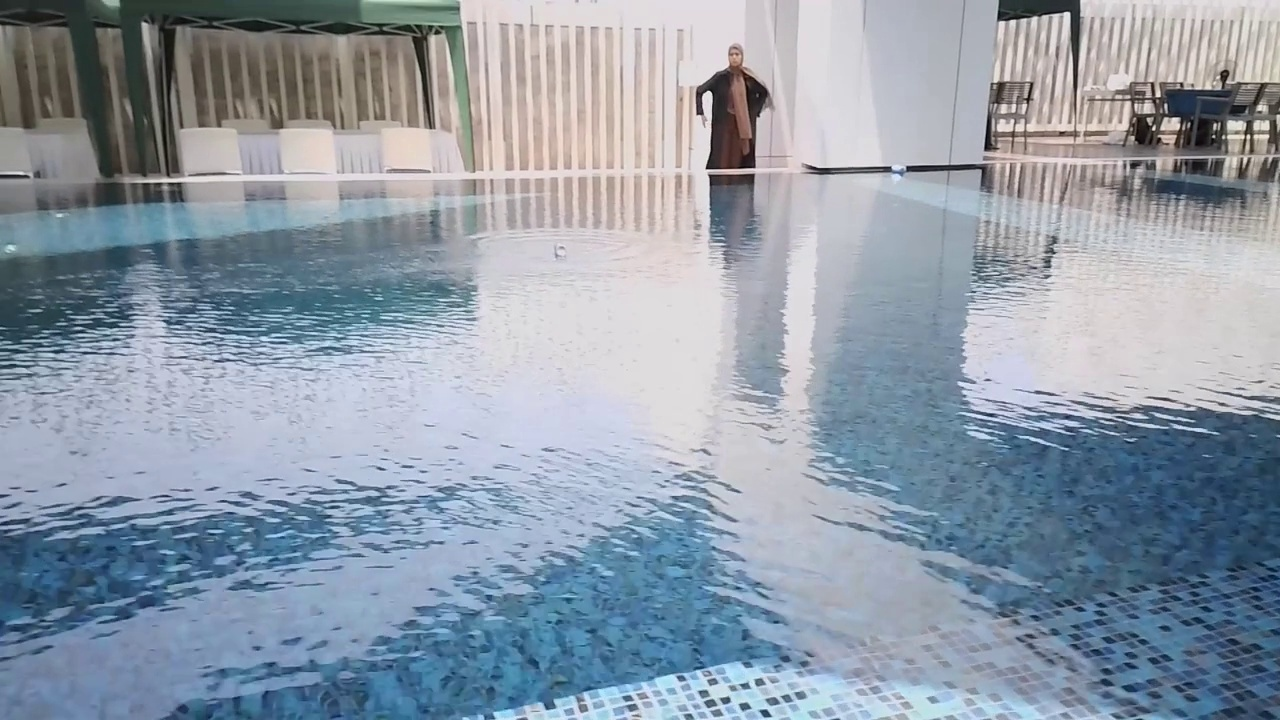debris: (552, 239, 571, 261), (888, 159, 910, 178)
